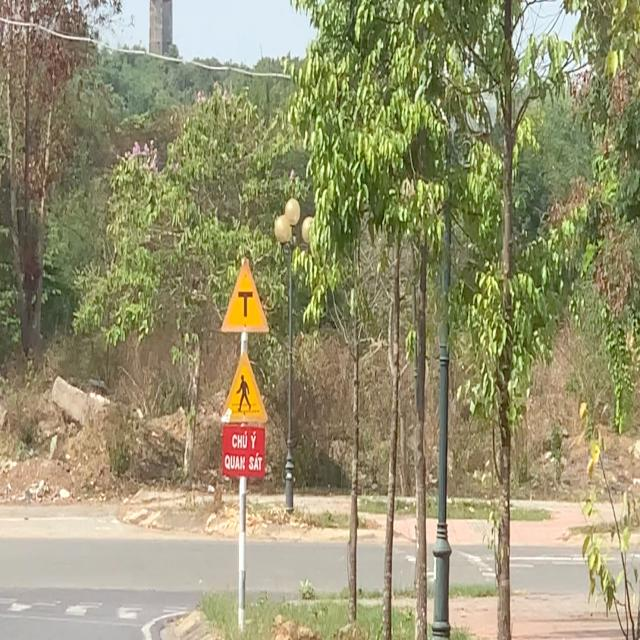Duong giao nhau: (214, 246, 274, 342)
Nguoi di bo cat ngang: (220, 342, 270, 422)
